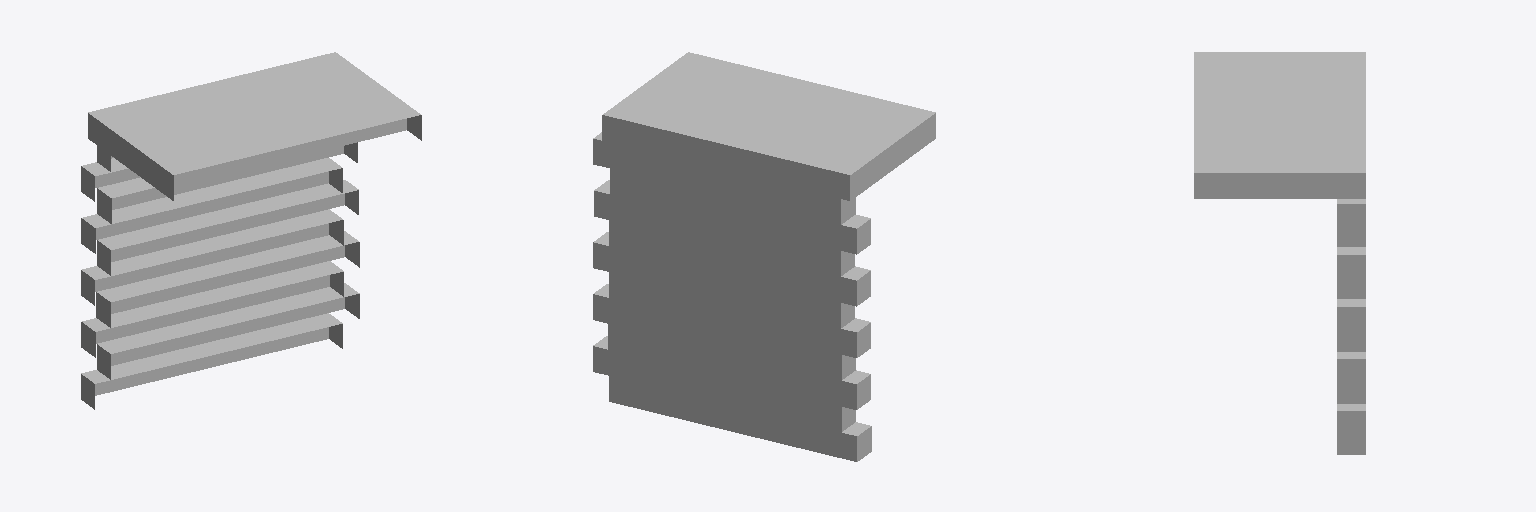
Rendered from Treppe Platform.obj.
The picture shows the model from 3 angles: view 1: azimuth 30°, elevation 25°; view 2: azimuth 150°, elevation 25°; view 3: azimuth 270°, elevation 25°; orthographic projection.
Parts seen in each view (by area): view 1: Treppe_Platform; view 2: Treppe_Platform; view 3: Treppe_Platform.
Boxes of the visible parts, x1=… form: Treppe_Platform: x1=81, y1=52, x2=421, y2=409; Treppe_Platform: x1=593, y1=52, x2=935, y2=461; Treppe_Platform: x1=1194, y1=52, x2=1365, y2=454.
Bounding box in the file's own units: 1.6 × 1.65 × 0.9.